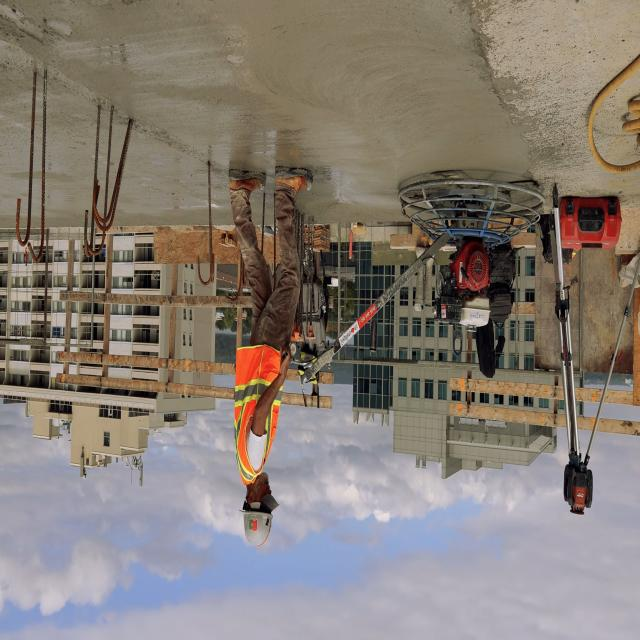Boots: (273, 167, 314, 198), (228, 176, 263, 192)
Helmet: (242, 503, 276, 550)
Vest: (237, 346, 284, 482)
